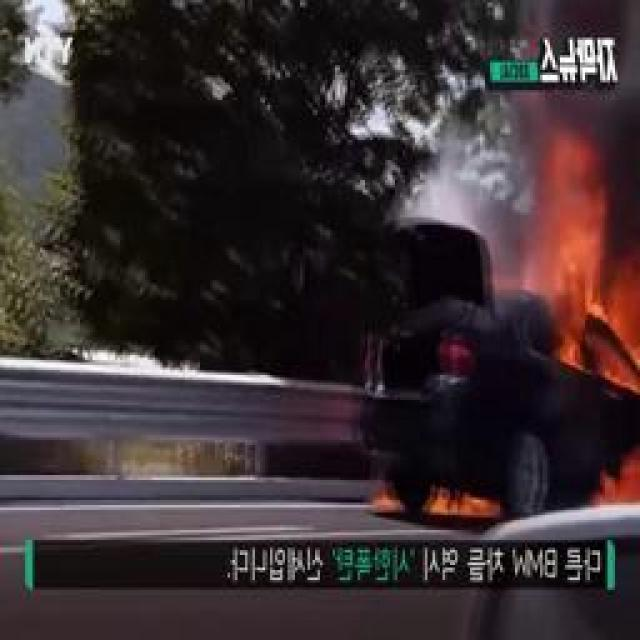Fire: (539, 183, 638, 370), (578, 456, 640, 506)
